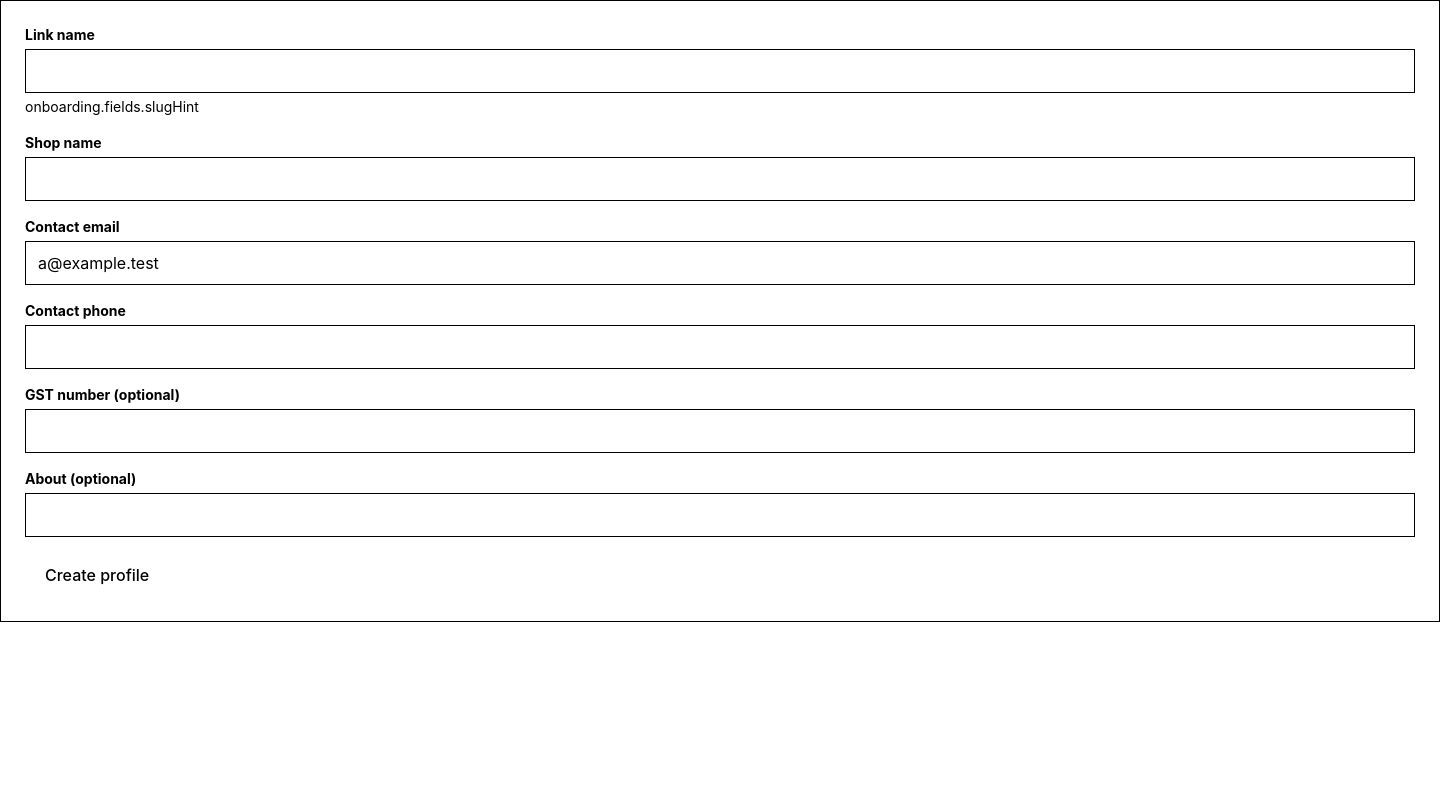
Test: ProfileForm › puts SLUG_TAKEN on the slug field
Type "xiaolin-farm" into the field labelled "Link name" at (720, 71), box [25,49,1415,93]
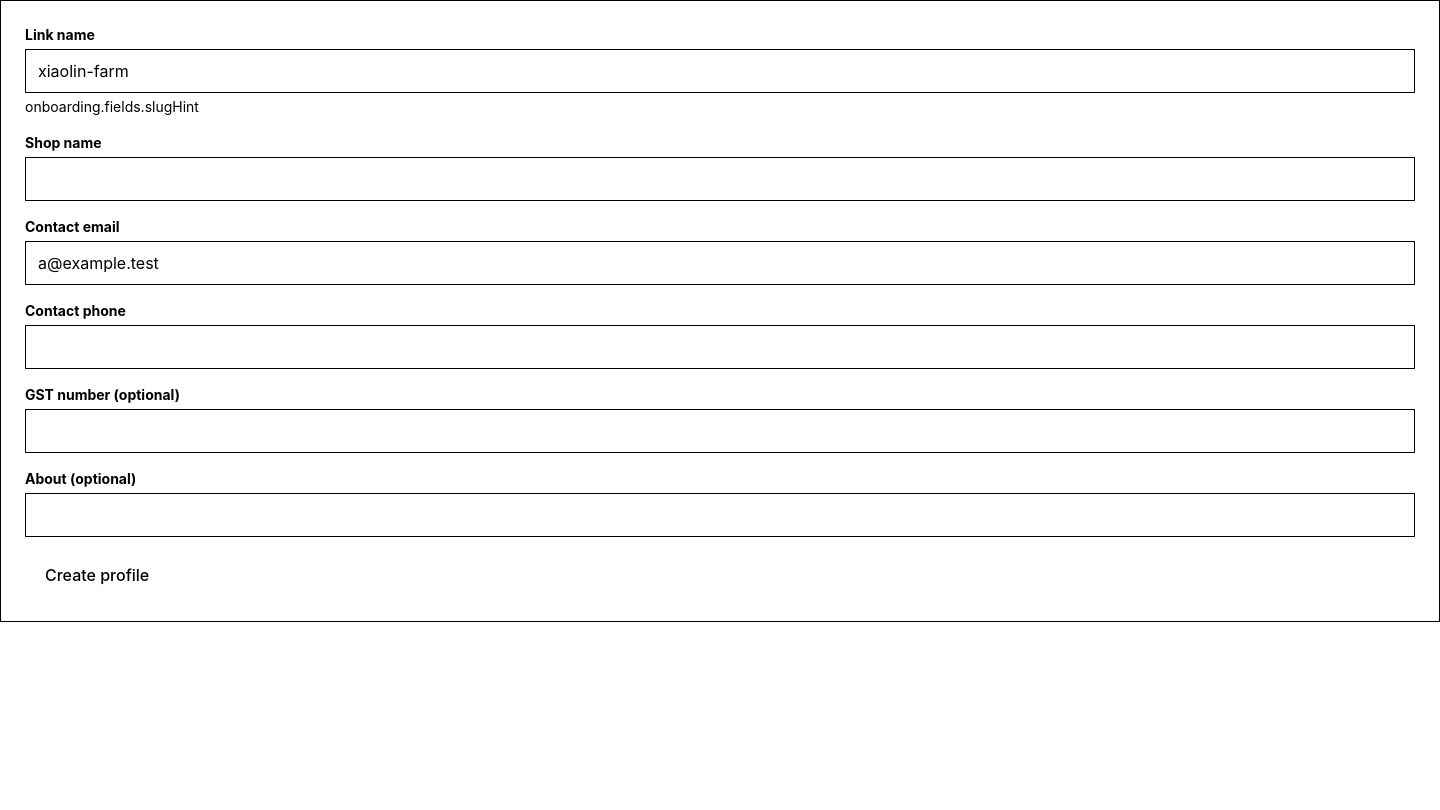
Type "Xiaolin" into the field labelled "Shop name" at (720, 179), box [25,157,1415,201]
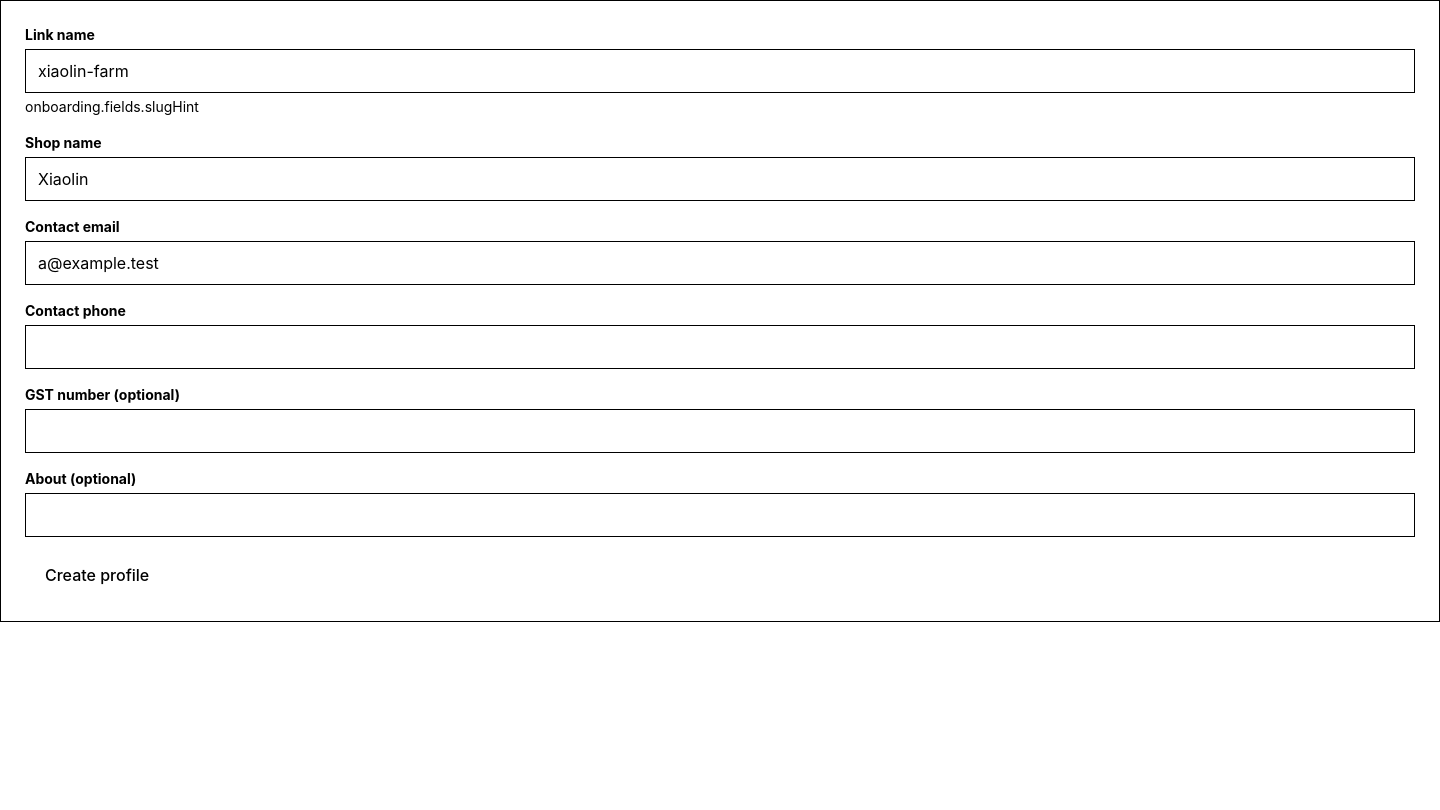
Type "021 123 4567" into the field labelled "Contact phone" at (720, 347), box [25,325,1415,369]
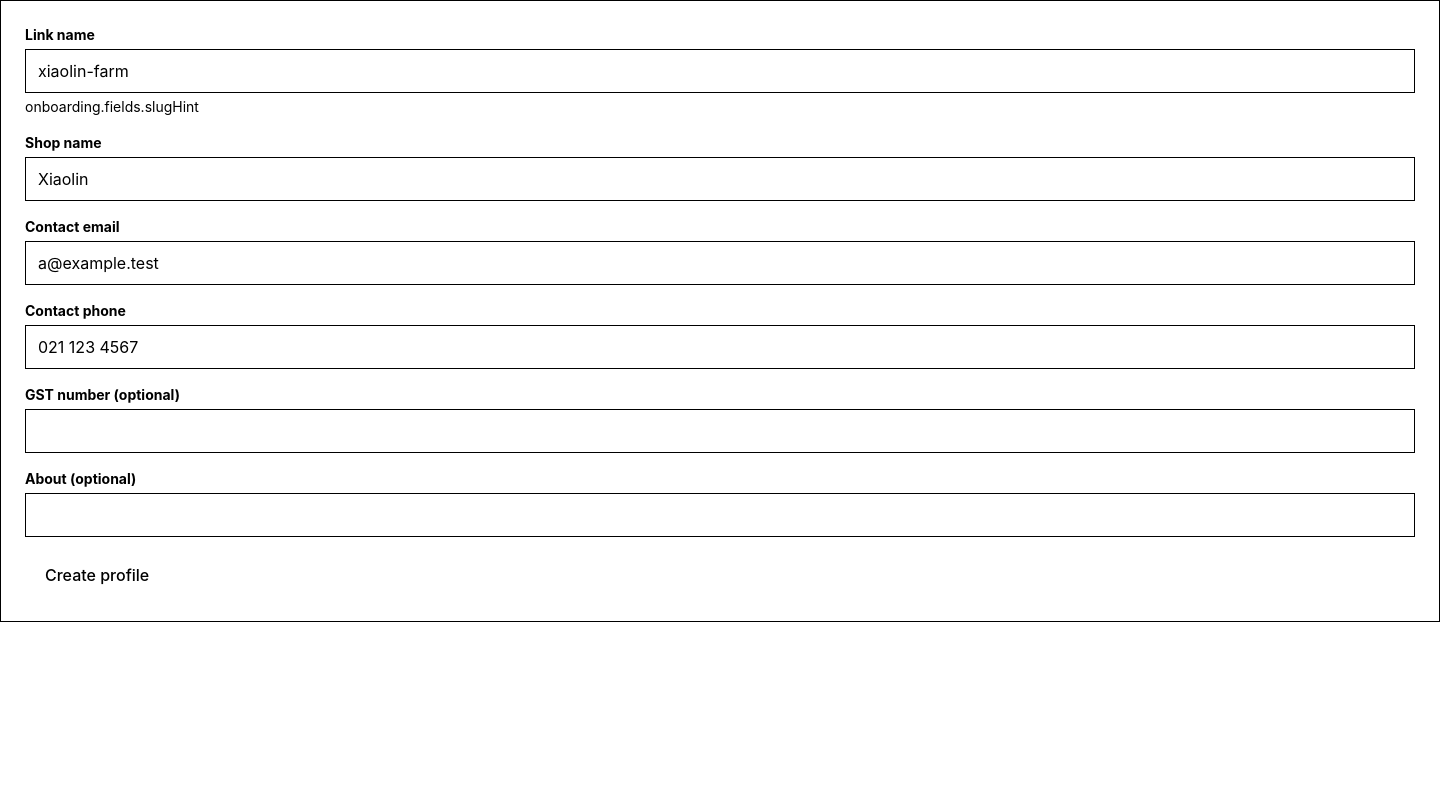
Click the button "Create profile" at (97, 575), box [25,553,169,597]
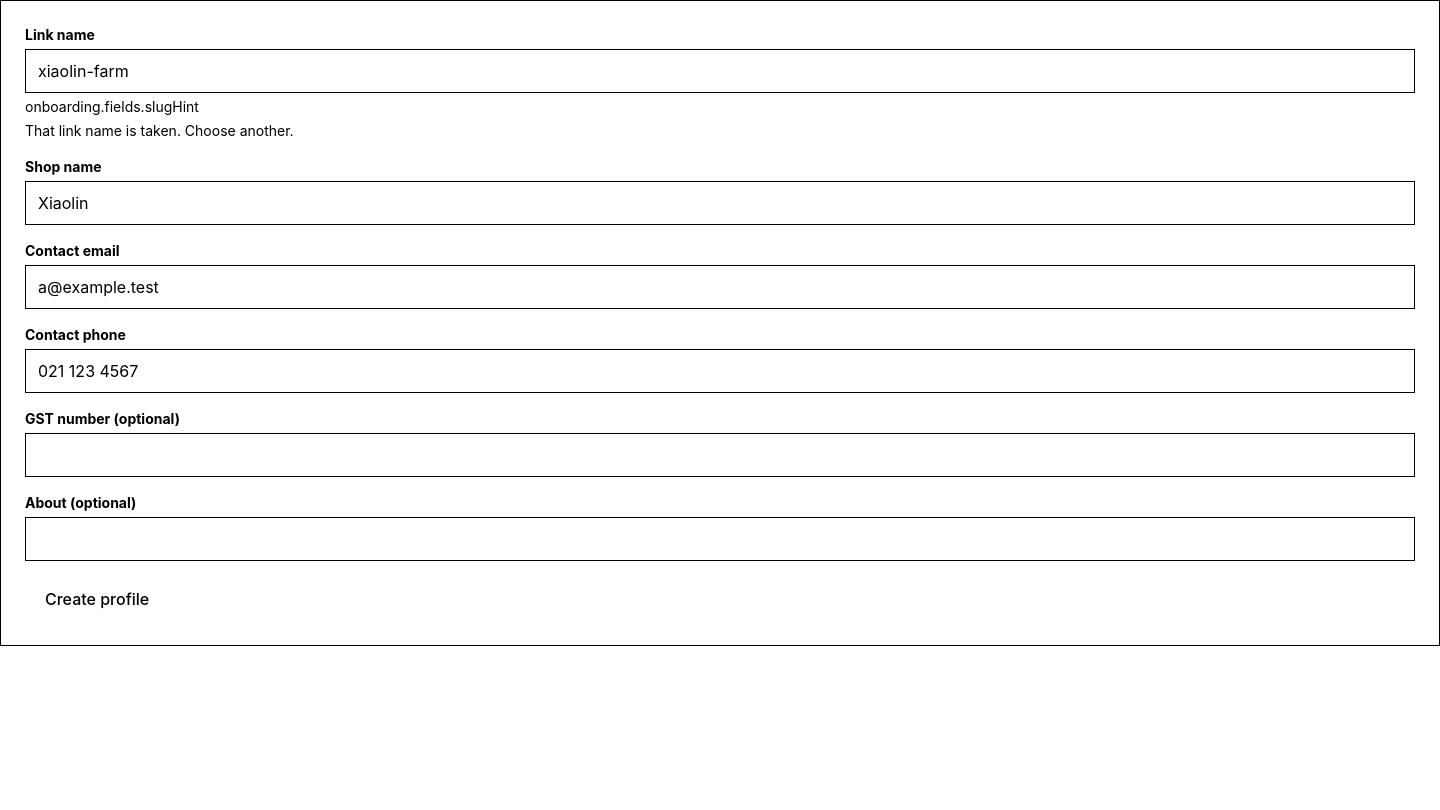
Now the message reads "That link name is taken. Choose another.", box [25,122,294,139]
